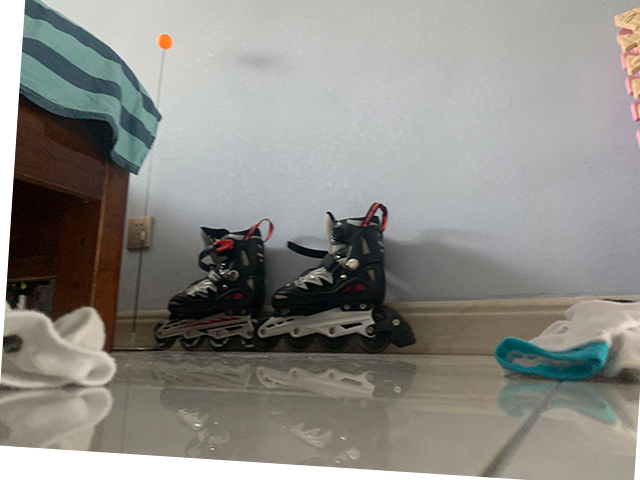socks: (493, 295, 640, 386), (3, 301, 117, 393)
